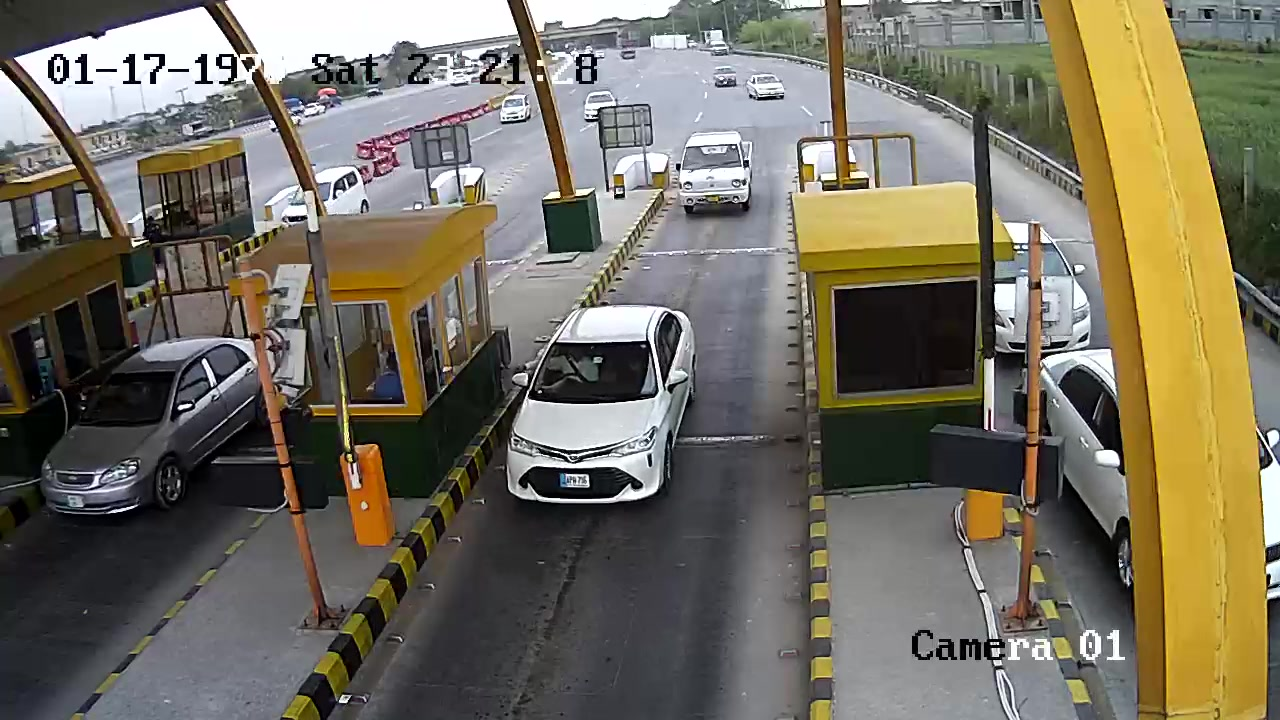F1: (504, 303, 710, 508)
